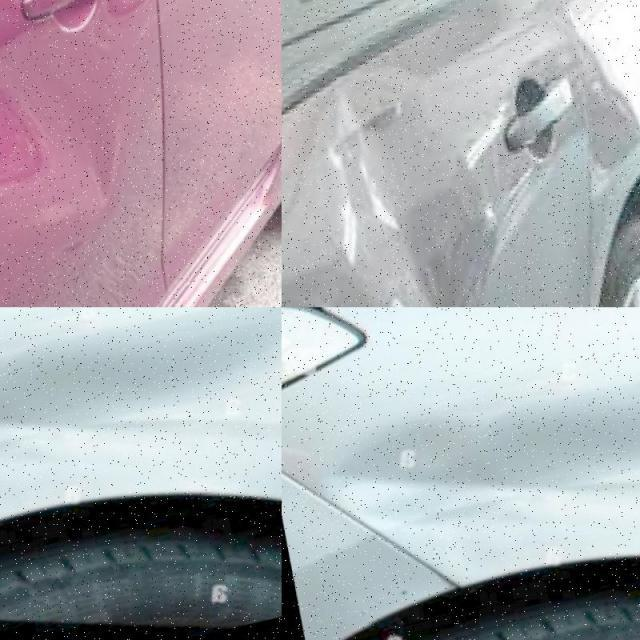car damage: (0, 497, 305, 504), (0, 0, 109, 5), (0, 491, 495, 492)
